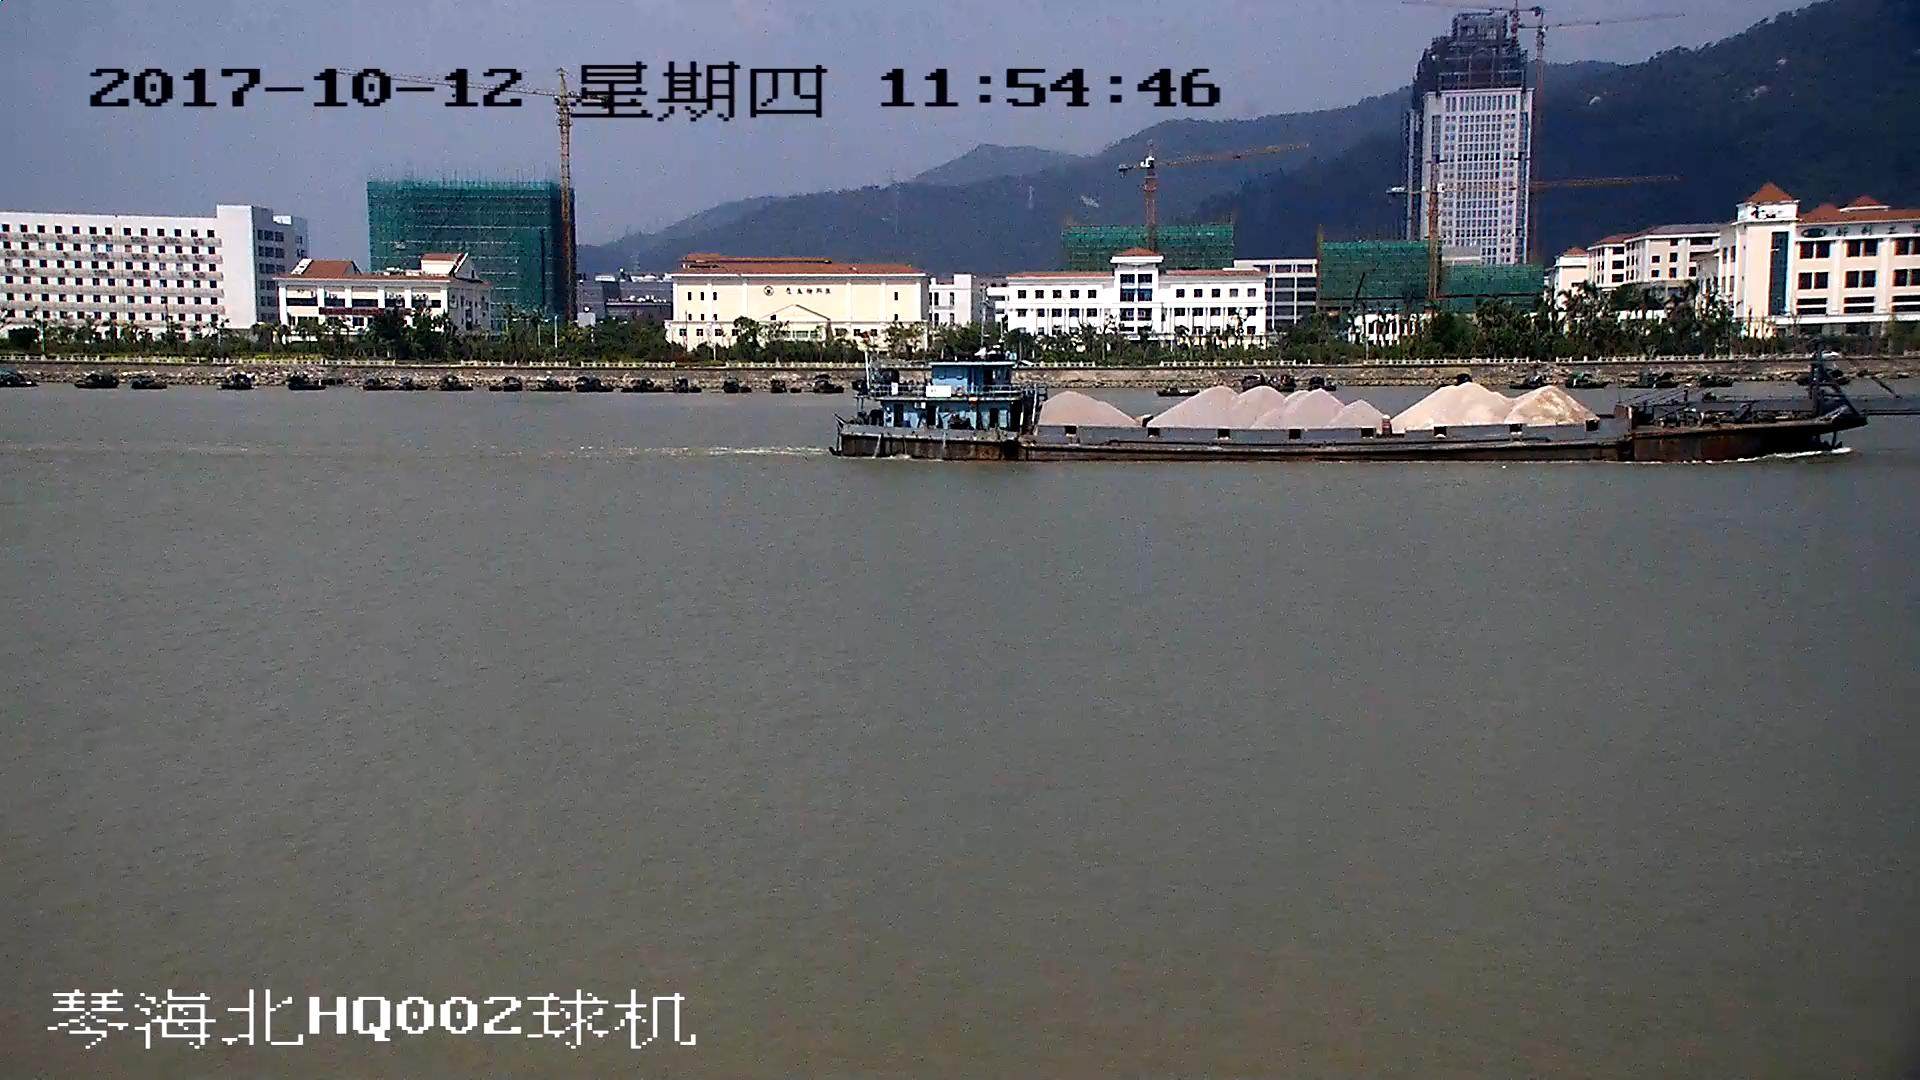ore carrier: (836, 334, 1920, 462)
